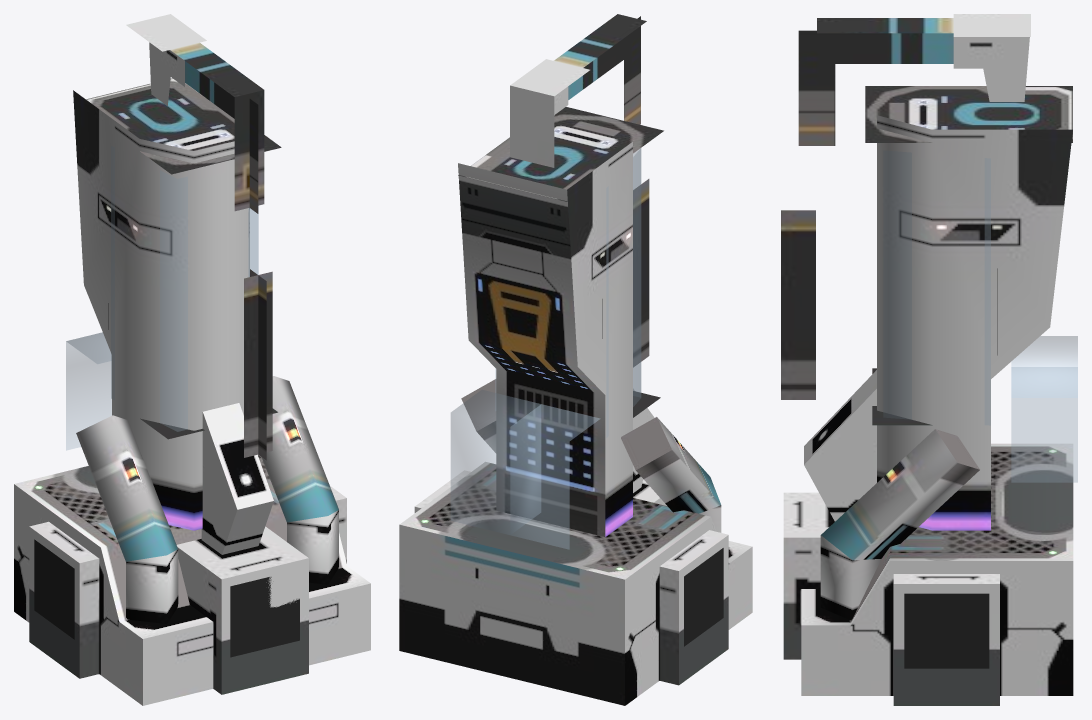
3 views of the same model, side by side, from view 1: azimuth 30°, elevation 25°; view 2: azimuth 150°, elevation 25°; view 3: azimuth 270°, elevation 25° (orthographic). The views are drawn at different scales.
Parts seen in each view (by area): view 1: fractionator-lod2; view 2: fractionator-lod2; view 3: fractionator-lod2.
Part boxes in pixels (x1,y1,x2,y2): fractionator-lod2: (14,14,370,705); fractionator-lod2: (399,14,752,705); fractionator-lod2: (781,14,1077,705).
Bounding box in the file's own units: 4.6 × 9.52 × 4.19.
Materials: 4 (1 with a texture image).
